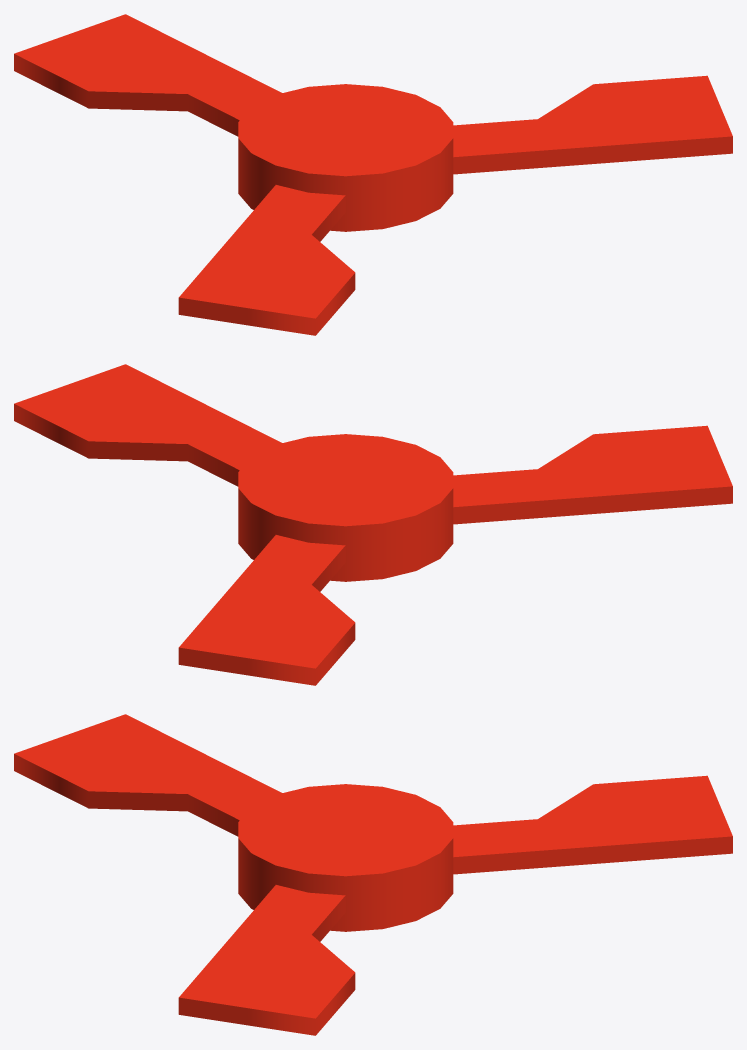
Rendered from RTS_Drone_left_wing_prop.fbx.
The picture shows the model from 3 angles, top to bottom: view 1: azimuth 30°, elevation 25°; view 2: azimuth 150°, elevation 25°; view 3: azimuth 270°, elevation 25°; orthographic projection.
Parts seen in each view (by area): view 1: left_wing_prop; view 2: left_wing_prop; view 3: left_wing_prop.
Part boxes in pixels (x1,y1,x2,y2): left_wing_prop: [14, 14, 732, 335]; left_wing_prop: [14, 364, 732, 685]; left_wing_prop: [14, 714, 732, 1035].
Bounding box in the file's own units: 1.57 × 0.1341 × 1.57.
